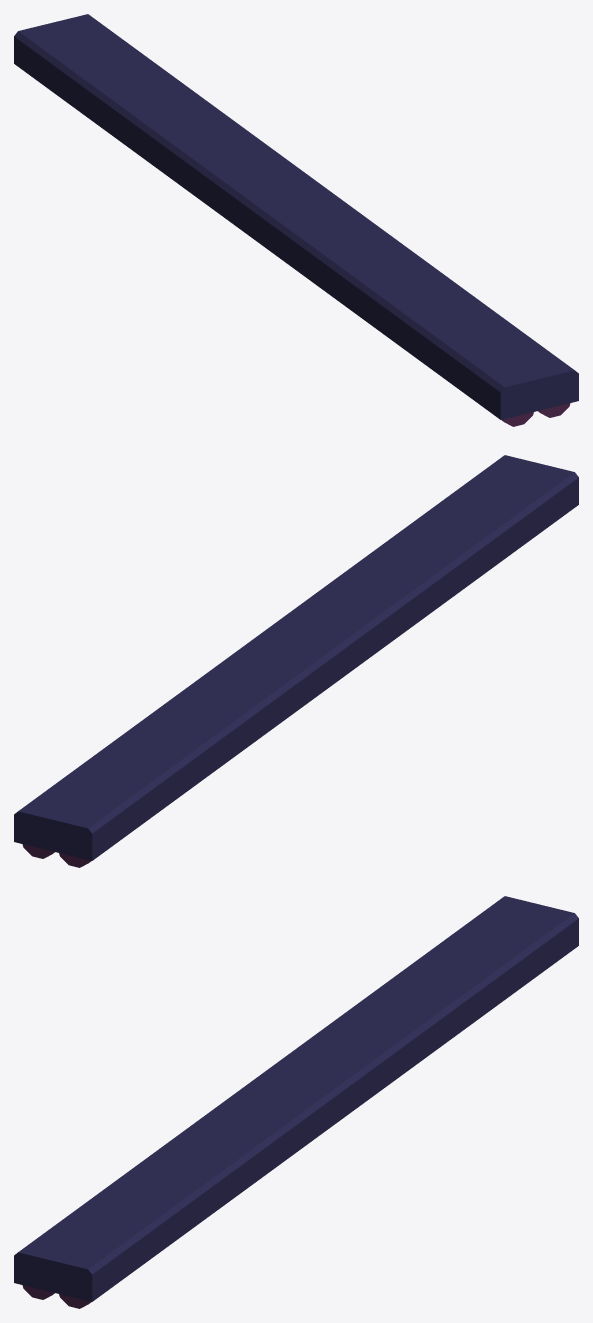
File: staticMesh_module_Wall_RoofLamp.fbx
The picture shows the model from 3 angles, top to bottom: view 1: azimuth 30°, elevation 25°; view 2: azimuth 150°, elevation 25°; view 3: azimuth 330°, elevation 25°; orthographic projection.
Visible parts, largest first — view 1: polySurface11; view 2: polySurface11; view 3: polySurface11.
Part boxes in pixels (<box>): polySurface11: <box>14,14,578,426</box>; polySurface11: <box>14,455,578,867</box>; polySurface11: <box>14,896,578,1308</box>.
Size of the model in its own units: 28.76 by 15.61 by 310.
